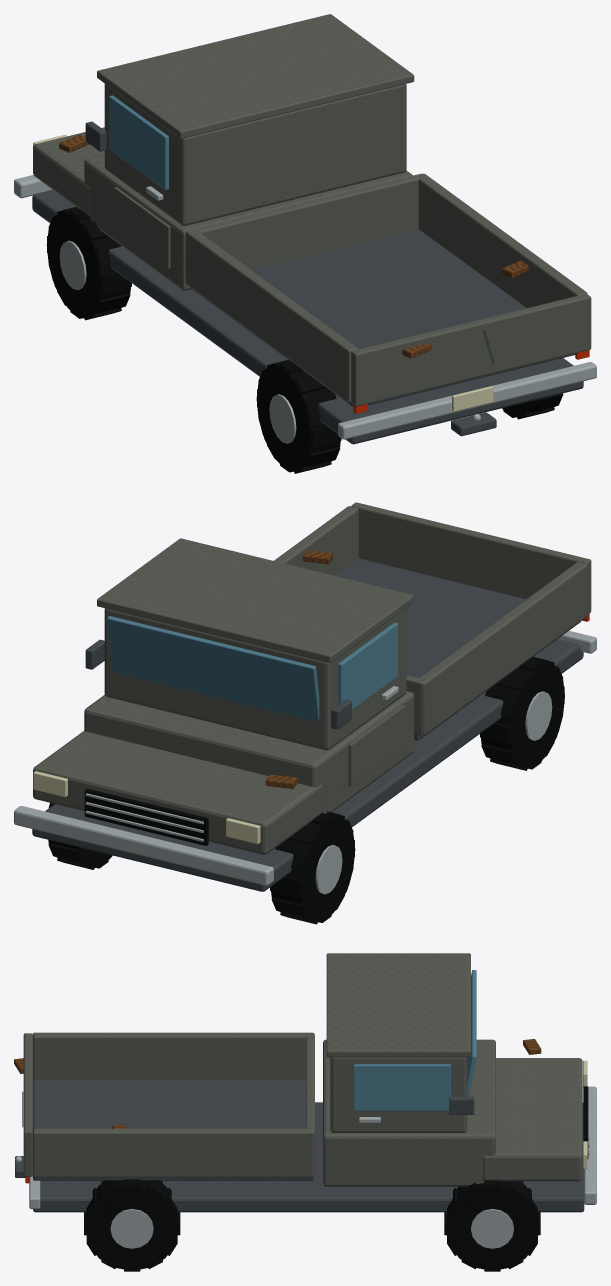
File: RustyPickup.gltf
The picture shows the model from 3 angles, top to bottom: view 1: azimuth 30°, elevation 25°; view 2: azimuth 150°, elevation 25°; view 3: azimuth 270°, elevation 25°; orthographic projection. The views are drawn at different scales.
Visible parts, largest first — view 1: RustyPickup__Body, RustyPickup__Wheel_RL, RustyPickup__Wheel_FL, RustyPickup__Wheel_RR; view 2: RustyPickup__Body, RustyPickup__Wheel_RL, RustyPickup__Wheel_FL, RustyPickup__Wheel_FR; view 3: RustyPickup__Body, RustyPickup__Wheel_RR, RustyPickup__Wheel_FR.
Part boxes in pixels (<box>): RustyPickup__Body: <box>14,14,596,444</box>; RustyPickup__Wheel_RL: <box>256,360,341,473</box>; RustyPickup__Wheel_FL: <box>46,207,131,320</box>; RustyPickup__Wheel_RR: <box>502,393,563,419</box>; RustyPickup__Body: <box>14,502,596,894</box>; RustyPickup__Wheel_RL: <box>480,657,564,770</box>; RustyPickup__Wheel_FL: <box>270,811,355,924</box>; RustyPickup__Wheel_FR: <box>48,803,112,869</box>; RustyPickup__Body: <box>14,953,596,1248</box>; RustyPickup__Wheel_RR: <box>84,1179,180,1271</box>; RustyPickup__Wheel_FR: <box>444,1180,540,1271</box>.
Size of the model in its own units: 1.99 by 1.86 by 4.53.
3 materials, 1 textured.
